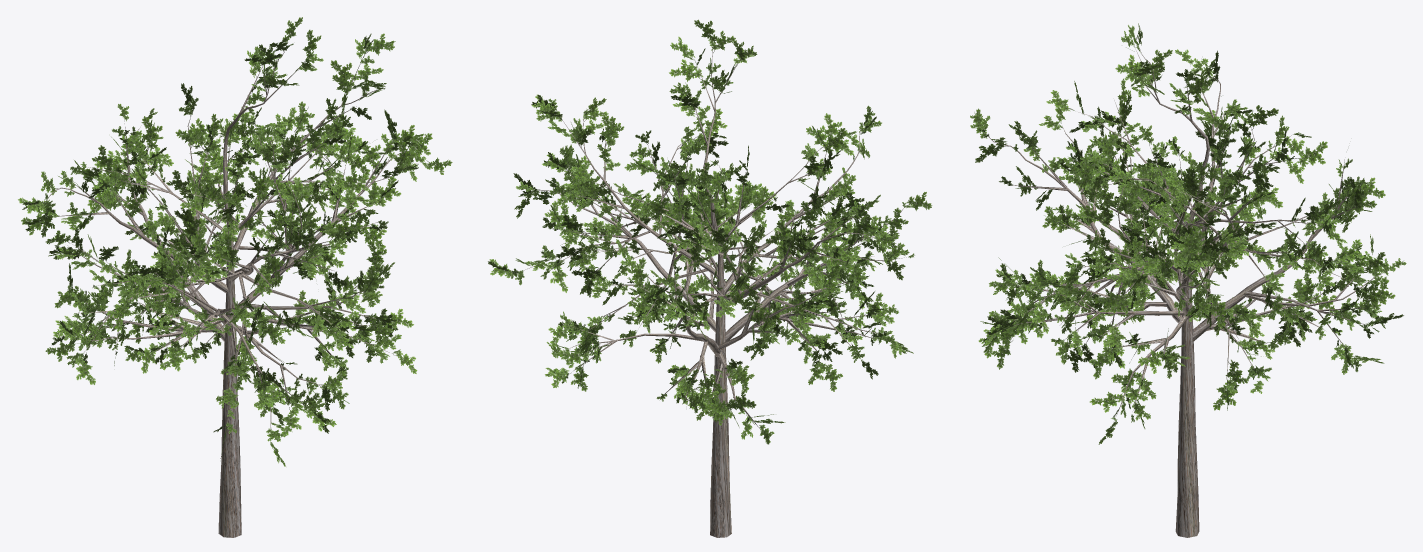
File: OakMeadow.glb
3 renders of one model, left to right at view 1: azimuth 30°, elevation 25°; view 2: azimuth 150°, elevation 25°; view 3: azimuth 270°, elevation 25°, orthographic. The views are drawn at different scales.
Parts seen in each view (by area): view 1: OakMeadow canopy, OakMeadow trunk; view 2: OakMeadow canopy, OakMeadow trunk; view 3: OakMeadow canopy, OakMeadow trunk.
Part boxes in pixels (left/top/right/bottom): OakMeadow canopy: left=18, top=17, right=452, bottom=466; OakMeadow trunk: left=47, top=50, right=416, bottom=537; OakMeadow canopy: left=488, top=19, right=932, bottom=444; OakMeadow trunk: left=524, top=48, right=906, bottom=537; OakMeadow canopy: left=970, top=23, right=1406, bottom=444; OakMeadow trunk: left=985, top=45, right=1388, bottom=537.
Bounding box in the file's own units: 10.8 × 13.2 × 9.97.
2 materials, 2 textured.
